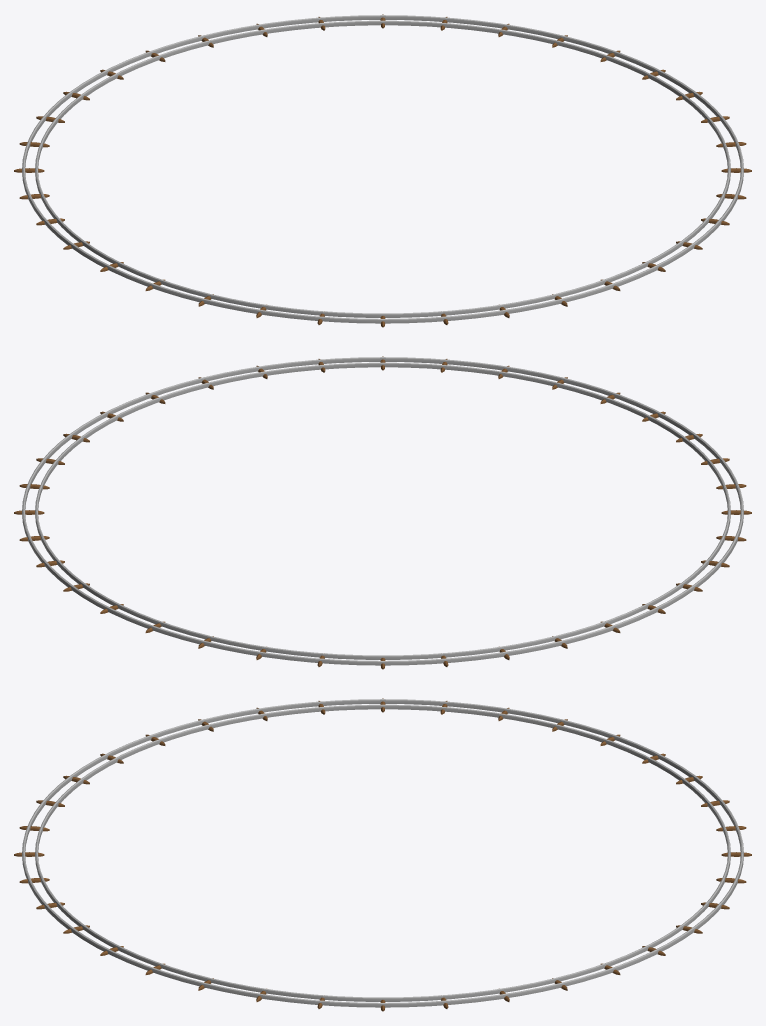
The model's file is Rail.fbx.
3 renders of one model, top to bottom at view 1: azimuth 30°, elevation 25°; view 2: azimuth 150°, elevation 25°; view 3: azimuth 270°, elevation 25°, orthographic.
Parts seen in each view (by area): view 1: polySurface2; view 2: polySurface2; view 3: polySurface2.
Boxes of the visible parts, x1=… form: polySurface2: x1=14, y1=14, x2=751, y2=327; polySurface2: x1=14, y1=356, x2=751, y2=669; polySurface2: x1=14, y1=698, x2=751, y2=1011.
Bounding box in the file's own units: 657 × 4.72 × 657.
1 material, 1 textured.
